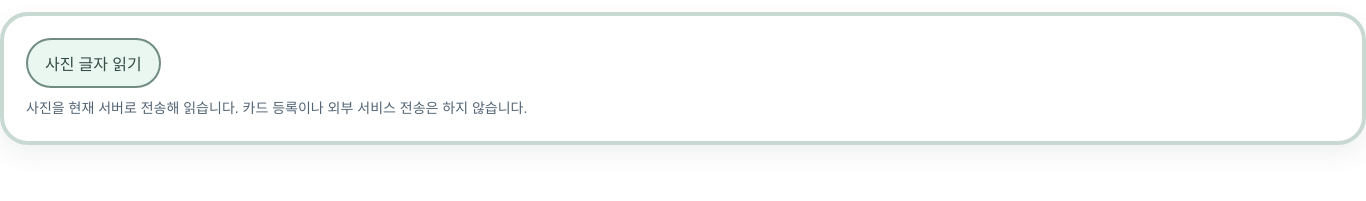
shows an empty recognition result without applying a name
Click the button "사진 글자 읽기".
click(93, 63)  # box [26,38,161,88]
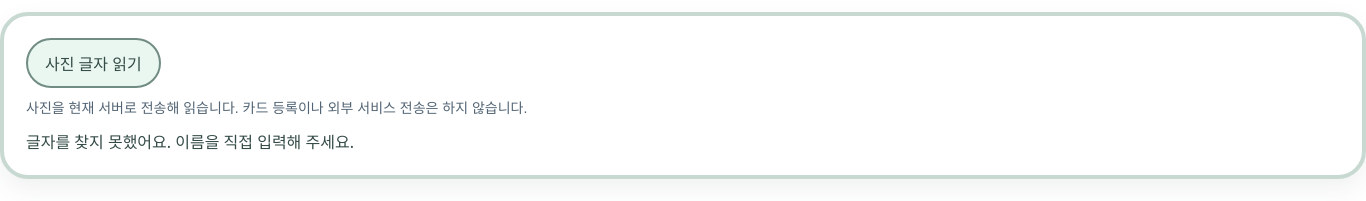
Result: the text "글자를 찾지 못했어요. 이름을 직접 입력해 주세요." is shown at [26,131,354,153]
